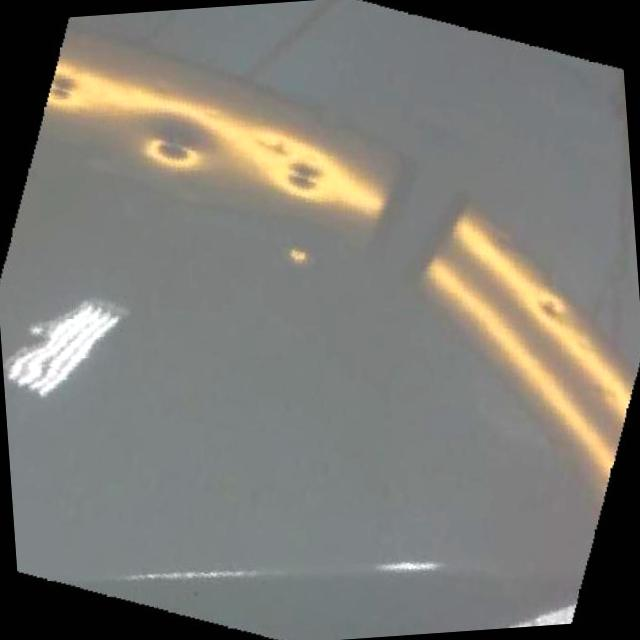dent: (146, 132, 198, 168), (284, 155, 325, 195), (45, 68, 83, 105), (528, 294, 562, 322), (250, 136, 288, 158), (287, 244, 308, 265)
